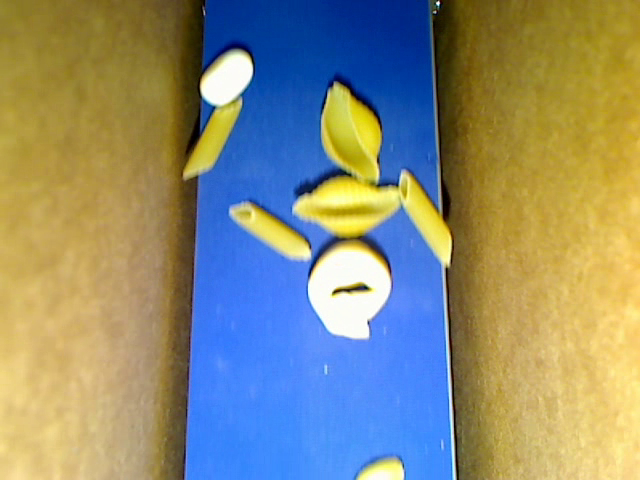penne: (397, 168, 453, 267), (228, 200, 313, 261), (181, 98, 242, 180)
shell: (292, 176, 402, 238), (320, 81, 383, 184)
tortellini: (305, 238, 393, 342)
